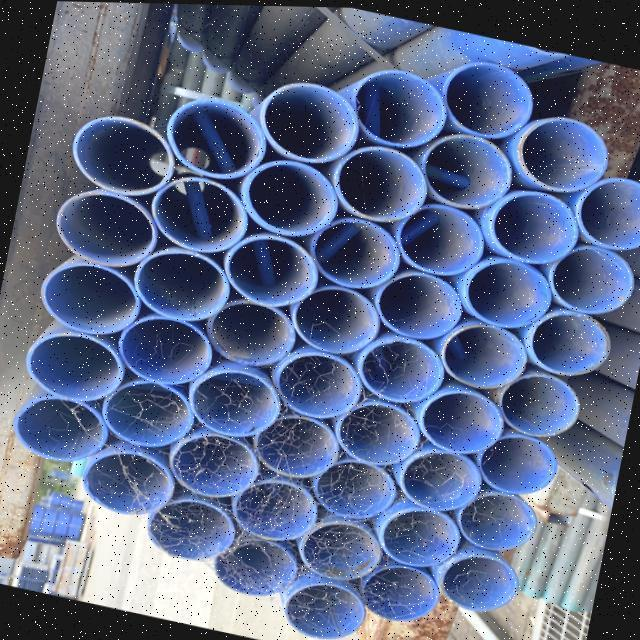pipe: (71, 113, 172, 198), (55, 187, 157, 270), (261, 83, 358, 169), (165, 97, 268, 177), (41, 257, 140, 340), (26, 329, 128, 406), (351, 70, 447, 151), (399, 204, 485, 293), (15, 395, 110, 475), (335, 145, 428, 225), (245, 161, 337, 240), (135, 252, 233, 326), (120, 316, 216, 391), (441, 64, 532, 142), (155, 178, 249, 253), (313, 218, 401, 296), (421, 138, 511, 214), (254, 406, 347, 479), (488, 193, 578, 268), (190, 364, 281, 437), (227, 236, 319, 308), (513, 121, 600, 196), (87, 451, 181, 520), (206, 297, 296, 367), (278, 349, 361, 424), (358, 336, 445, 407), (295, 287, 383, 357), (466, 261, 552, 332), (171, 434, 263, 500), (376, 271, 465, 339), (107, 381, 194, 450), (555, 242, 637, 314), (149, 500, 240, 563), (420, 395, 507, 460), (441, 324, 528, 389), (301, 518, 385, 584), (337, 397, 419, 464), (528, 310, 609, 376), (232, 480, 318, 542), (400, 453, 486, 515), (219, 537, 303, 599), (379, 509, 463, 571), (501, 372, 582, 436), (314, 458, 396, 520), (286, 581, 372, 639), (480, 435, 563, 494), (459, 494, 541, 553), (574, 177, 640, 250), (360, 565, 444, 622), (443, 556, 522, 611)
